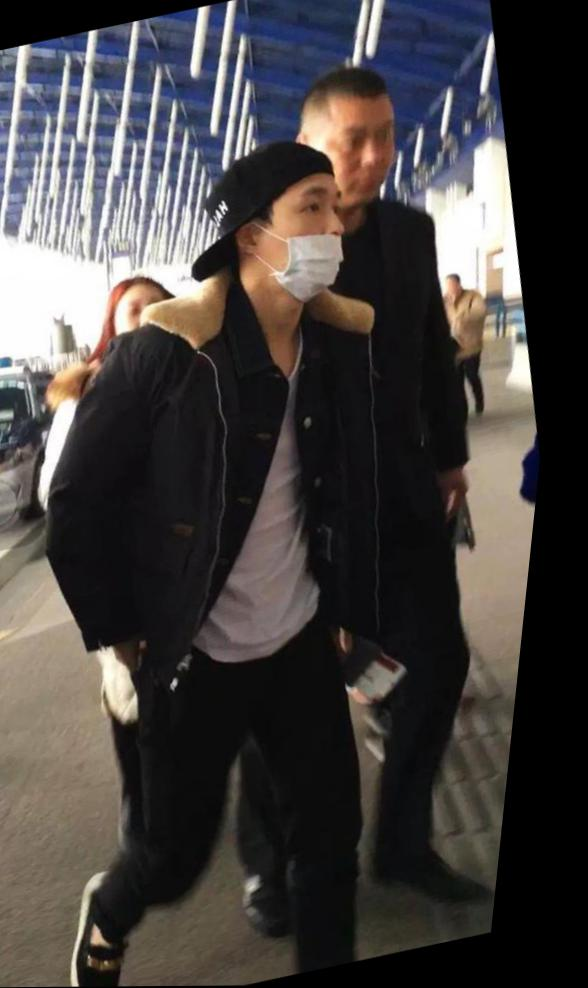NONE: (313, 109, 412, 207)
WRONG: (244, 179, 366, 305)
